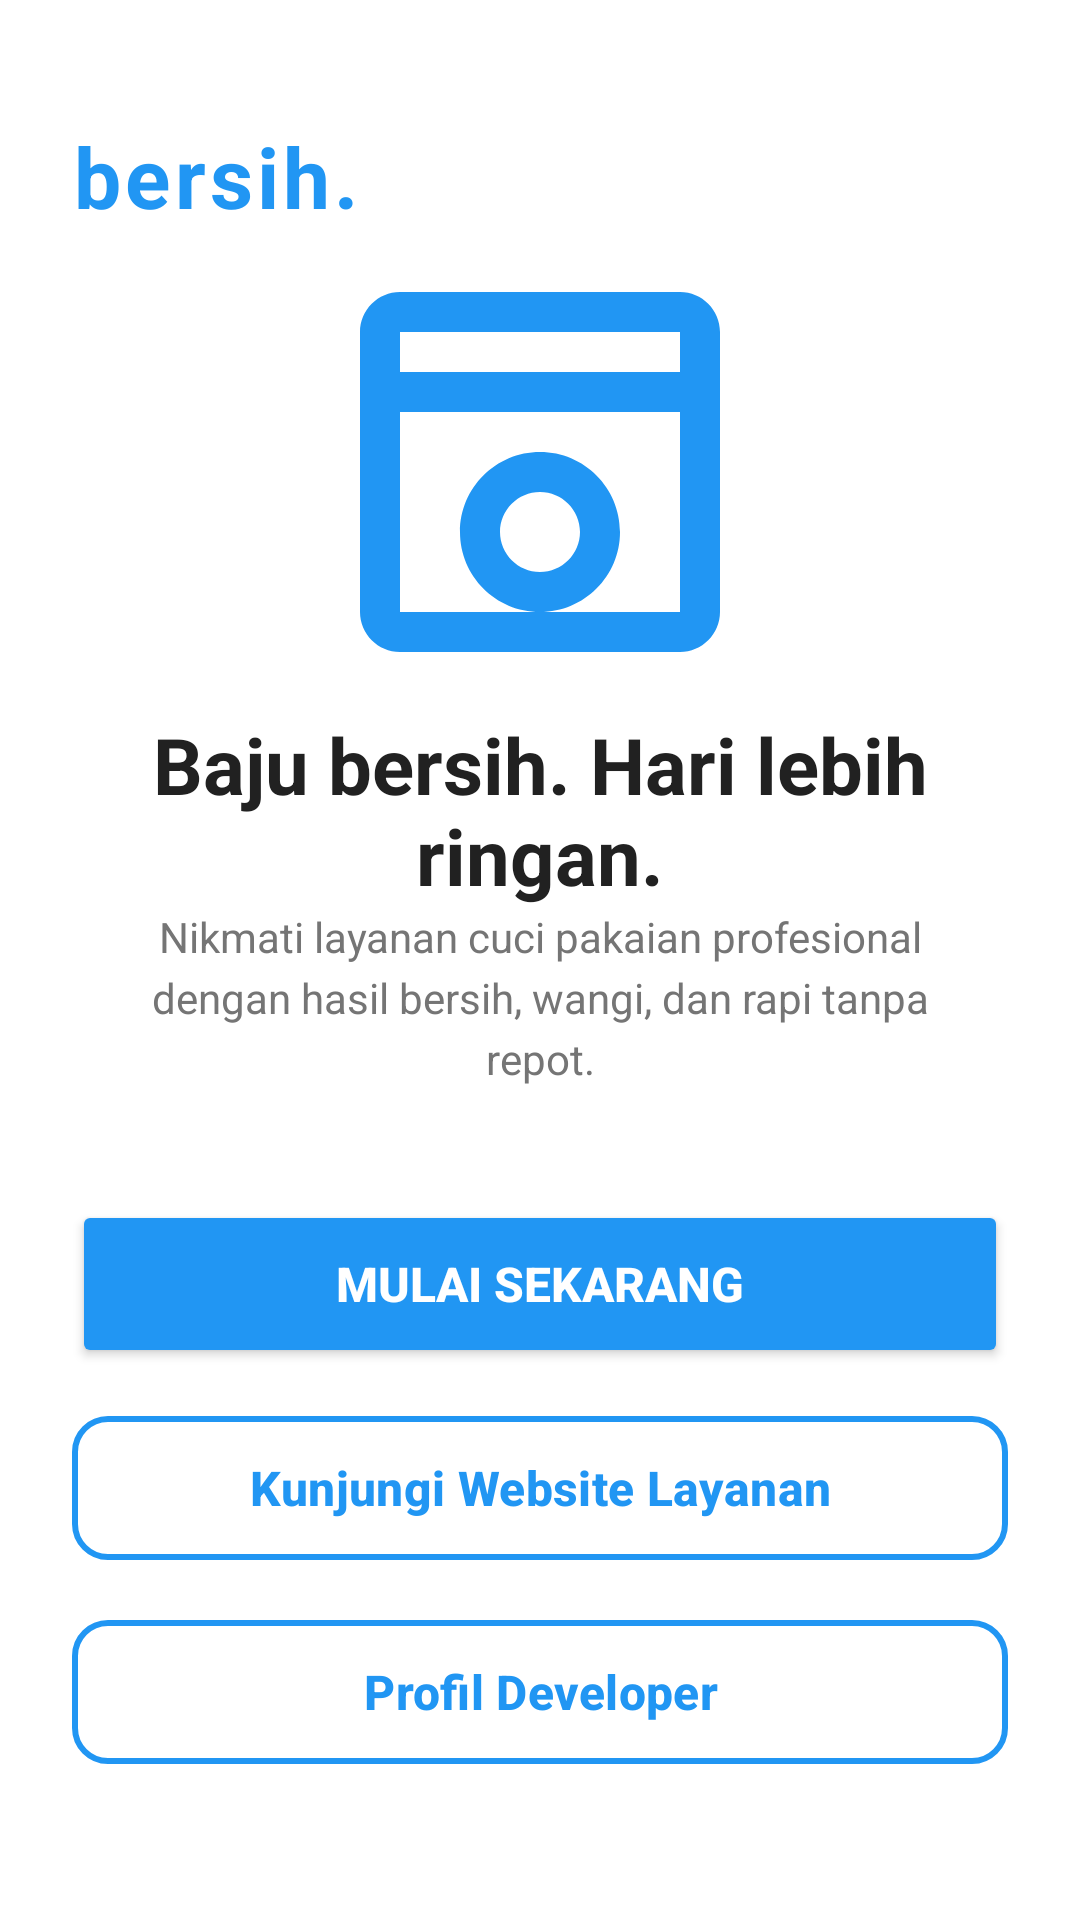

Where icons sit on this 1080px x 1920px app screen, as box=[x1, y1, x2, y2]:
Ilustrasi Mesin Cuci: box=[360, 292, 720, 652]
